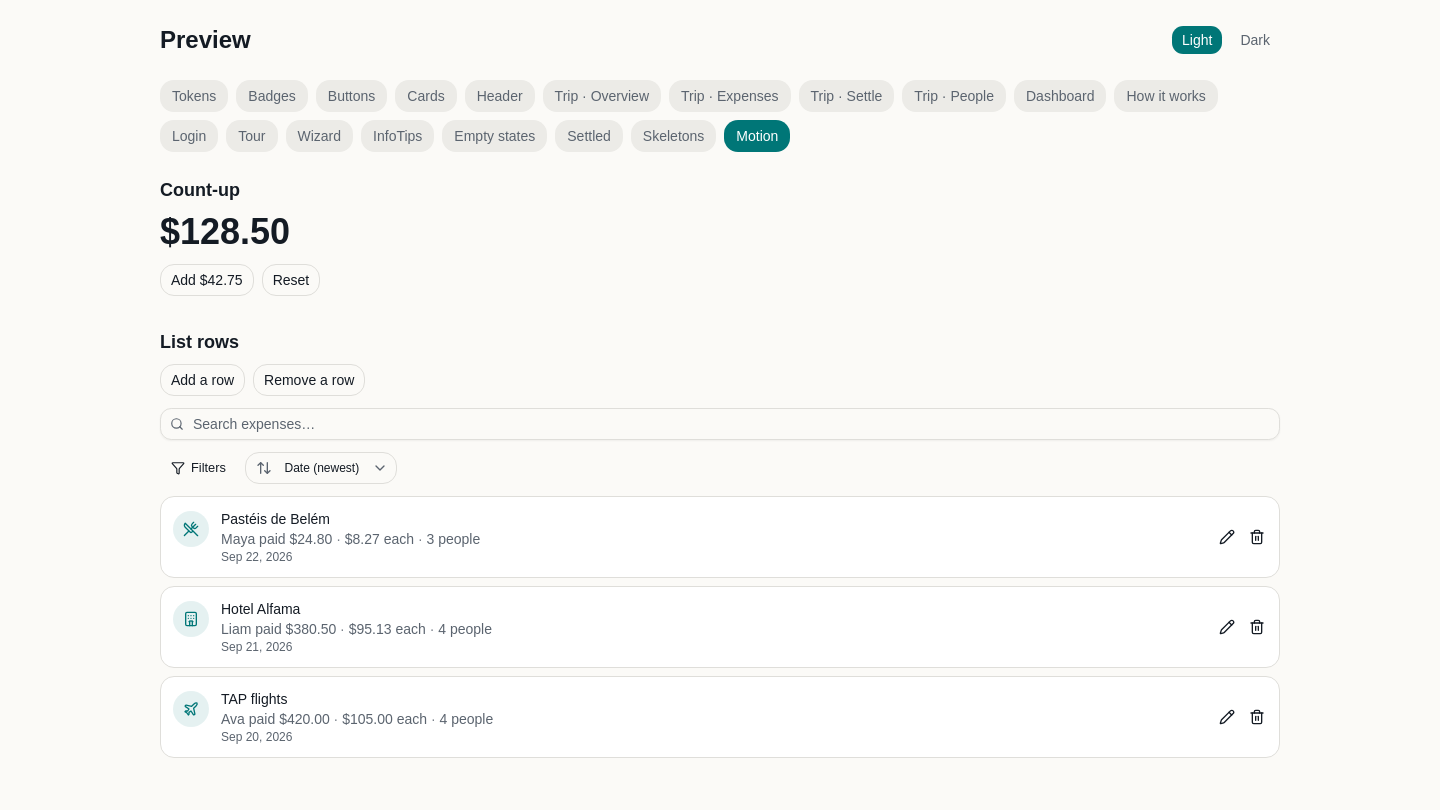
Test case: preview motion section › changes the hero amount
The width and height of the screenshot is (1440, 810).
expect the text "$128.50" is shown: met, box [160,211,290,252]
Click the button "Add $42.75".
click(207, 280)  # box [160,264,254,296]
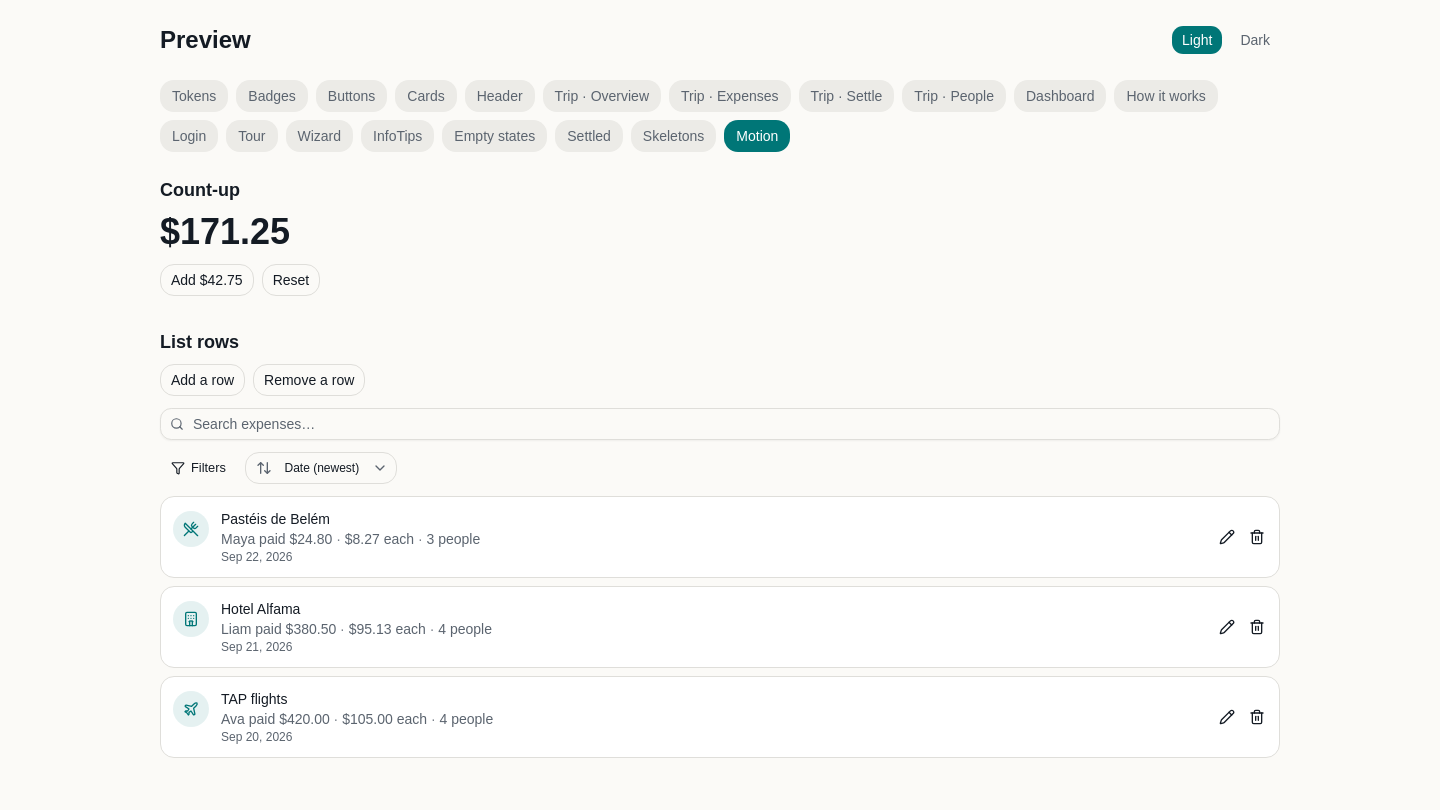
expect the text "$171.25" is shown: met, box [160,211,290,252]
